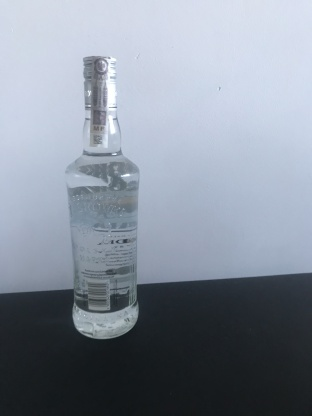nakretka: (80, 50, 120, 113)
